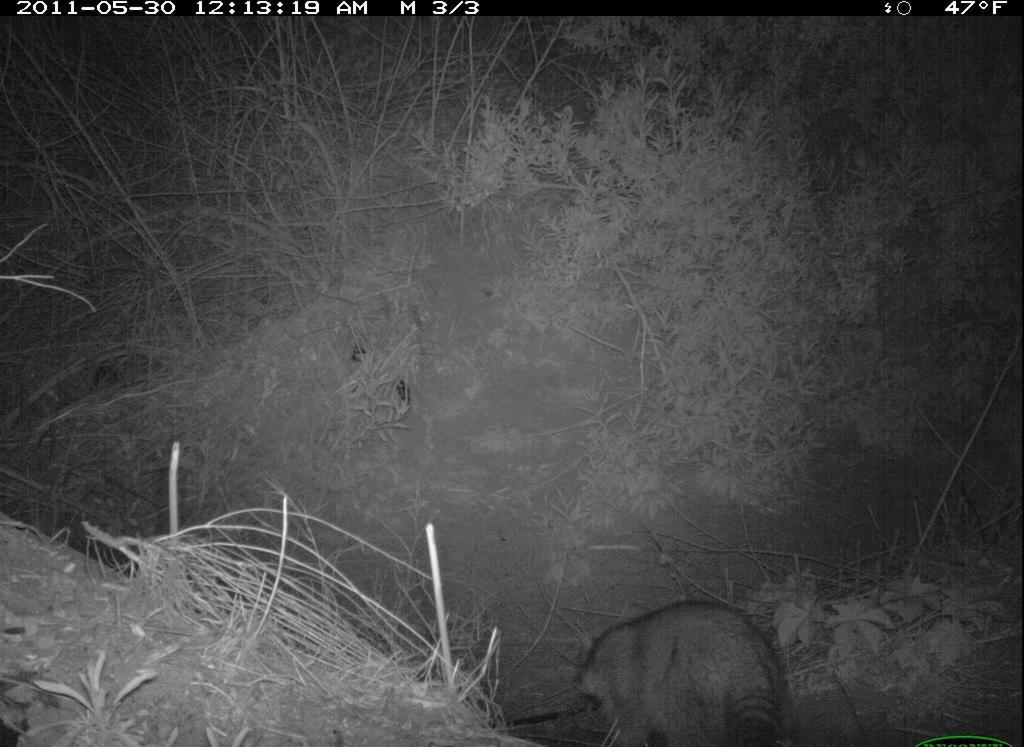raccoon: (562, 594, 803, 747)
